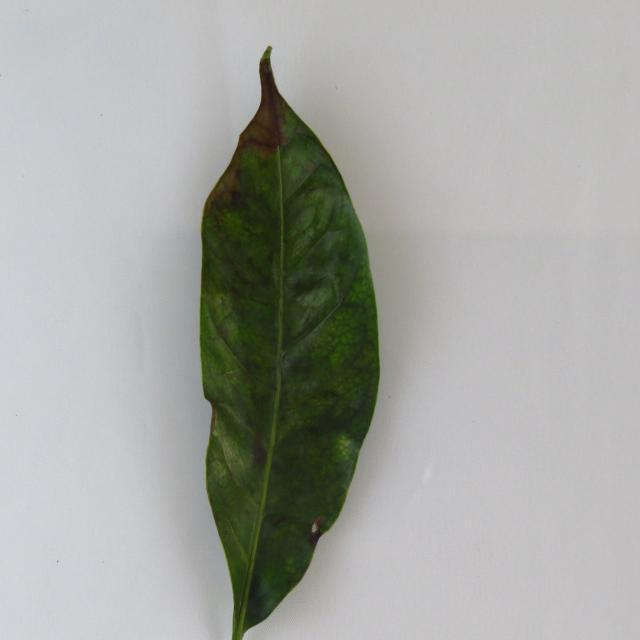DeficienciaNutricional-Manganeso: (200, 47, 380, 638)
